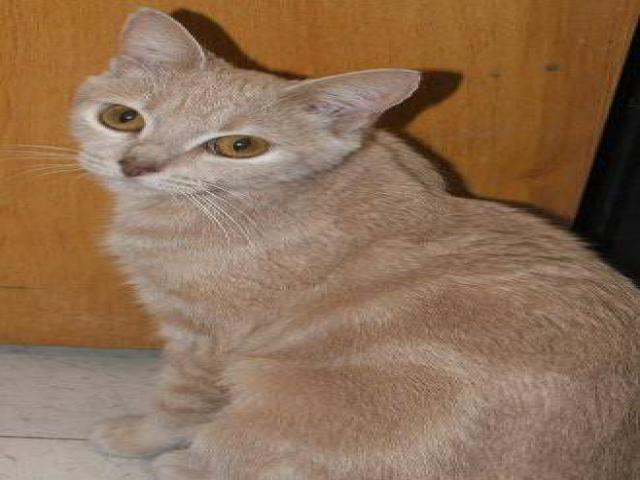cat: (38, 13, 639, 474)
